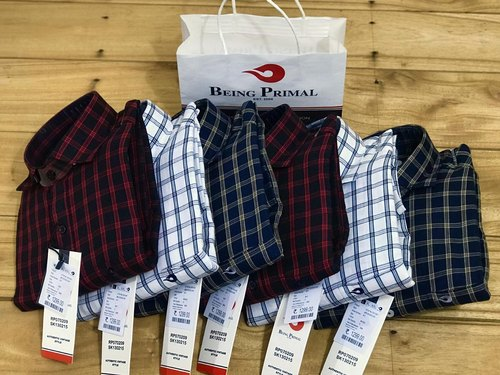long-sleeved shirt: (17, 93, 500, 309)
